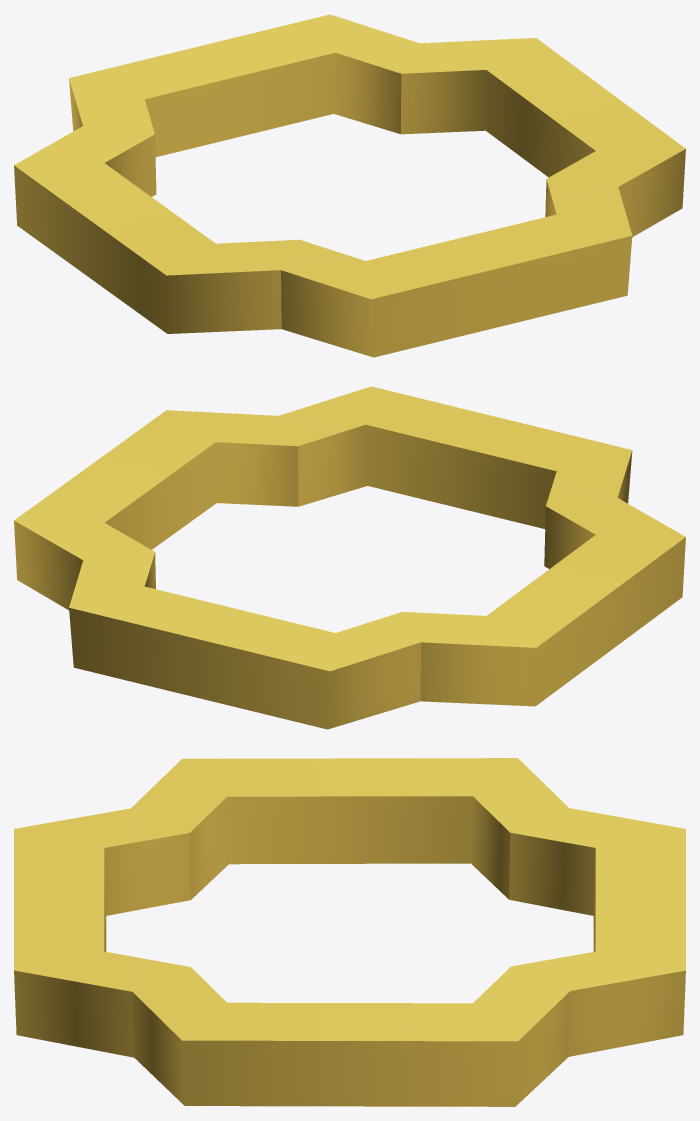
File: paprika_yellow_slice.fbx
3 views of the same model, one above another, from view 1: azimuth 30°, elevation 25°; view 2: azimuth 150°, elevation 25°; view 3: azimuth 270°, elevation 25° (orthographic). The views are drawn at different scales.
Visible parts, largest first — view 1: paprika_yellow_slice; view 2: paprika_yellow_slice; view 3: paprika_yellow_slice.
Part boxes in pixels (x1,y1,x2,y2): paprika_yellow_slice: (14,14,685,357); paprika_yellow_slice: (14,386,685,729); paprika_yellow_slice: (14,758,685,1106).
Size of the model in its own units: 22.67 by 2.49 by 22.73.
